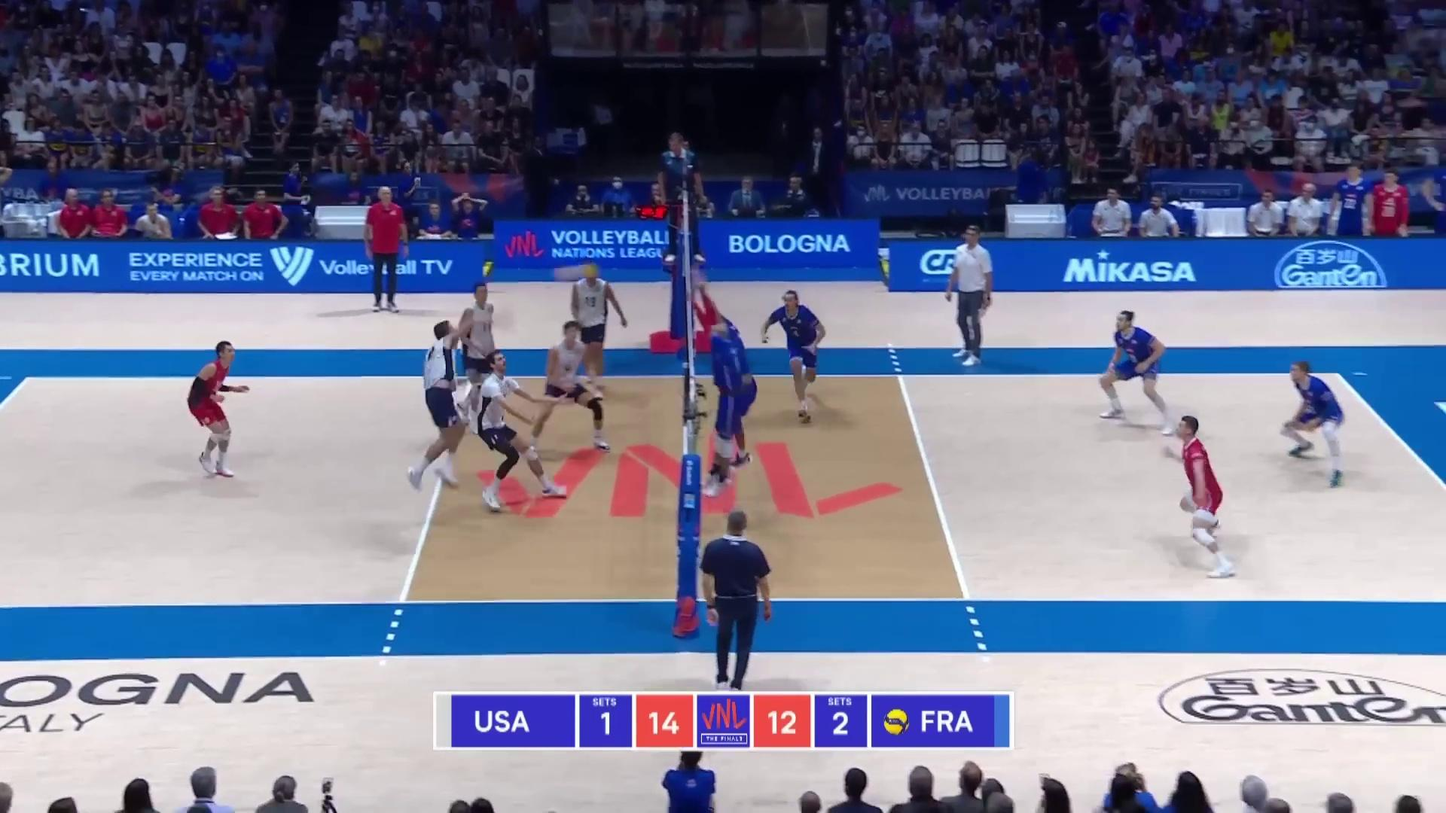player: (473, 355, 560, 508), (413, 321, 476, 498), (1174, 416, 1240, 577), (532, 322, 608, 457), (762, 290, 828, 429), (448, 284, 508, 436), (558, 261, 625, 397), (1098, 309, 1173, 428), (706, 309, 757, 469), (694, 325, 740, 496), (186, 343, 243, 479), (1282, 362, 1345, 483)
refree: (704, 512, 780, 684), (659, 135, 704, 265)
